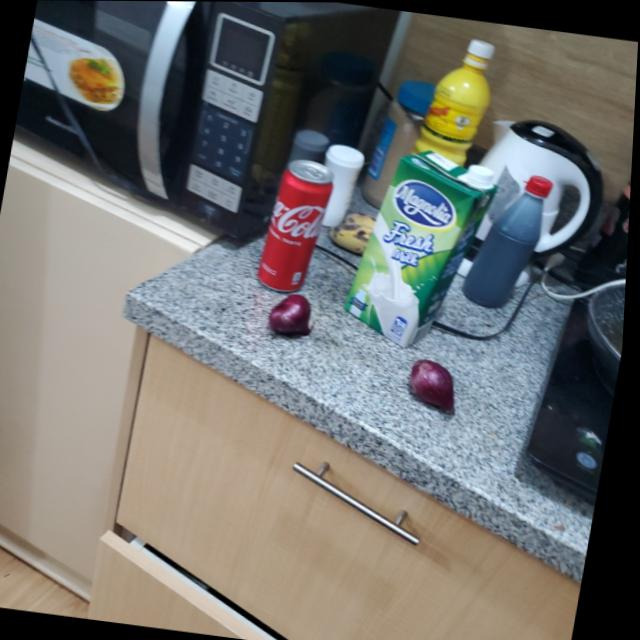coke: (255, 154, 339, 294)
milk: (340, 140, 501, 348)
onion: (407, 355, 470, 419), (272, 292, 323, 337)
